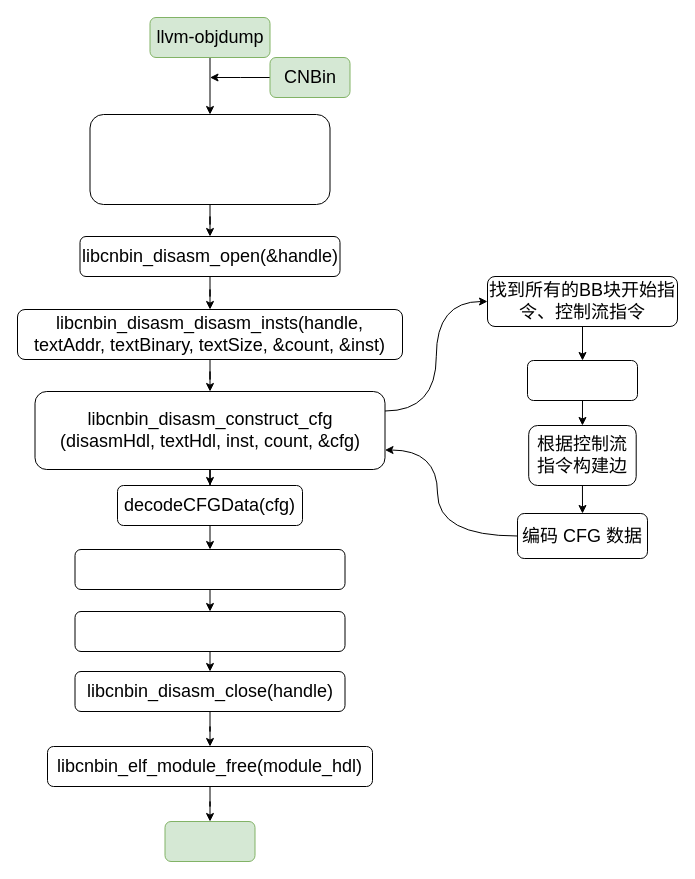
Image size: 695x879. Some labels were removed from this diagram. The centre of each missing label's shape, as x and y in pixels:
cfg.dot: the point at 209,841
libcnbin_disasm_destroy_cfg(cfg): the point at 209,569
libcnbin_disasm_free(inst): the point at 209,631
module_hdl = libcnbin_elf_module_new _from_memory(cnbin): the point at 209,159
构建 BB 块: the point at 582,380
